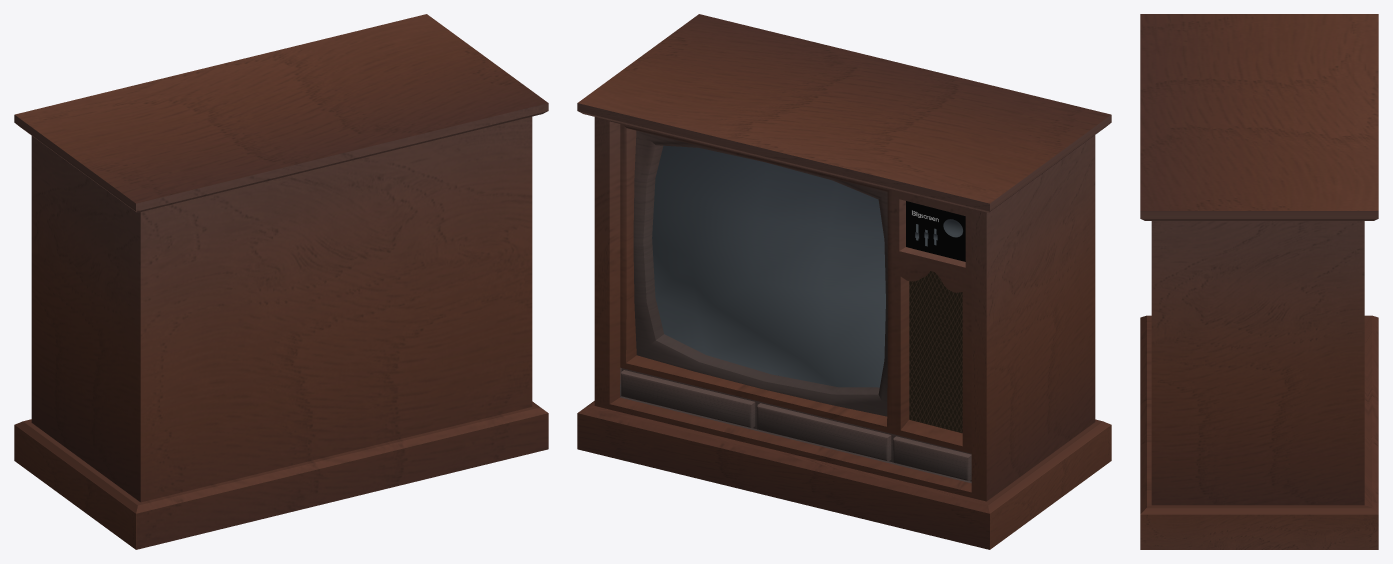
Rendered from TV_Seperate_Screen.fbx.
The picture shows the model from 3 angles, left to right: view 1: azimuth 30°, elevation 25°; view 2: azimuth 150°, elevation 25°; view 3: azimuth 270°, elevation 25°; orthographic projection. The views are drawn at different scales.
Parts seen in each view (by area): view 1: TV; view 2: TV, TV.001; view 3: TV.
Part boxes in pixels (bbox=[...]): TV: bbox=[14, 14, 548, 549]; TV: bbox=[577, 14, 1111, 549]; TV.001: bbox=[652, 145, 885, 387]; TV: bbox=[1140, 14, 1378, 549].
Size of the model in its own units: 242 by 194 by 124.
